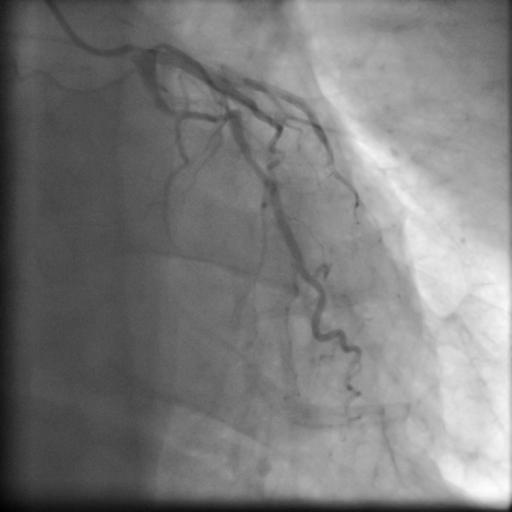Stenosis: (214, 106, 237, 123)
